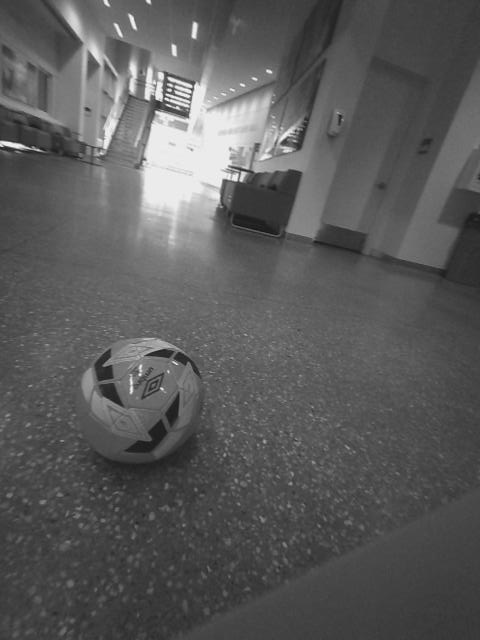ball: (245, 253, 294, 305)
